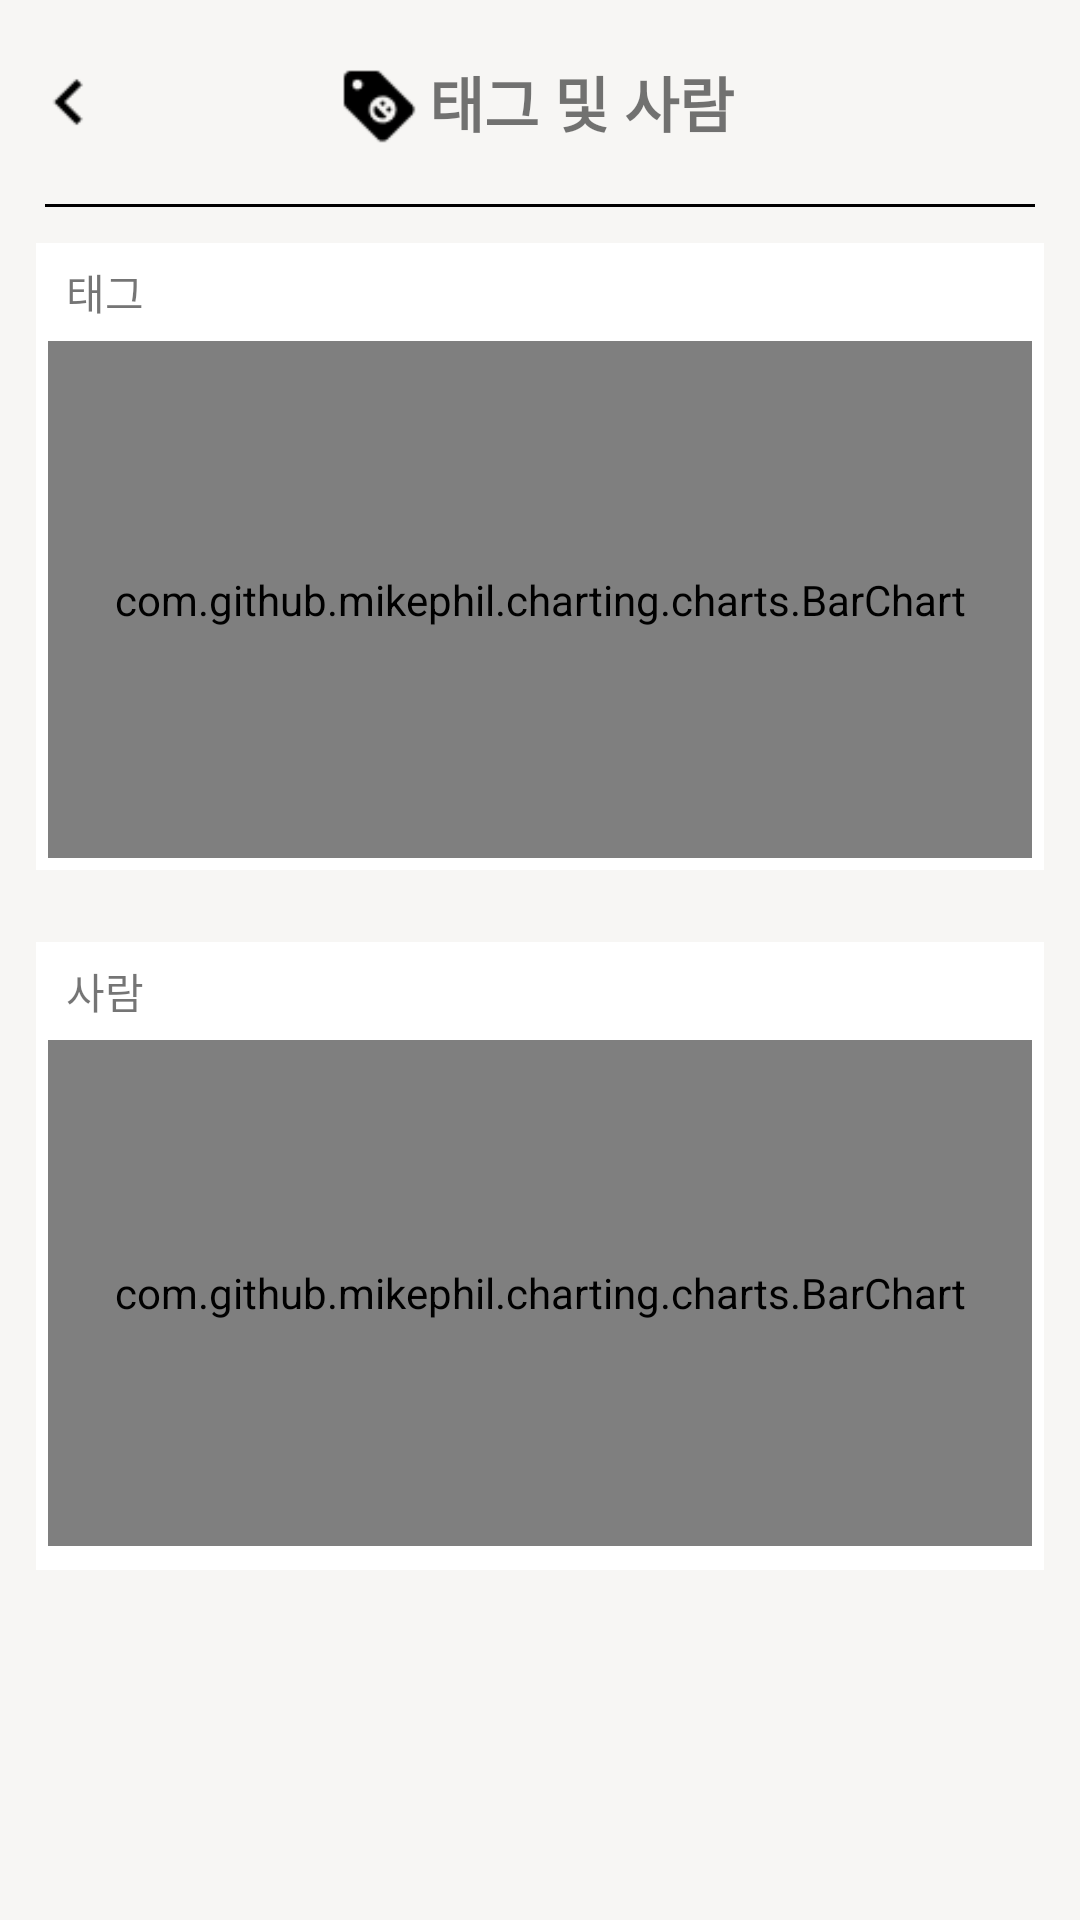

Where icons sit on this 1080 x 1920 app screen, as [x1=x1, y1=y1, x2=x2, y2=y2]:
left: [x1=53, y1=79, x2=83, y2=125]
tag: [x1=343, y1=70, x2=416, y2=143]
